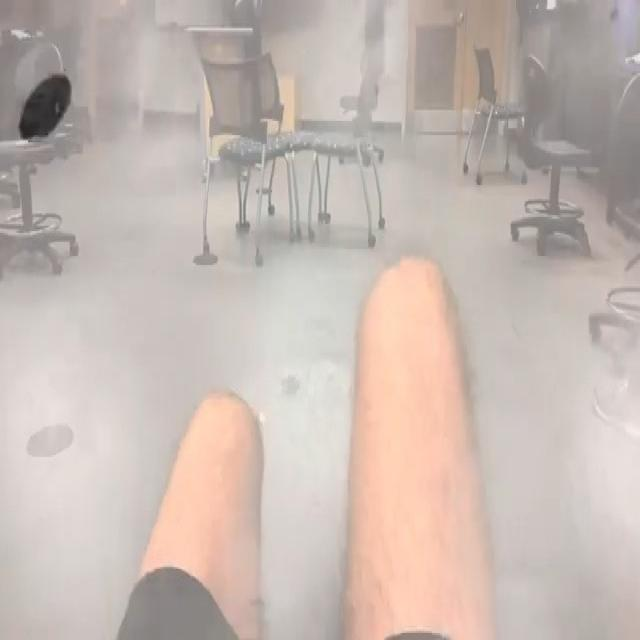drone: (270, 359, 308, 409)
